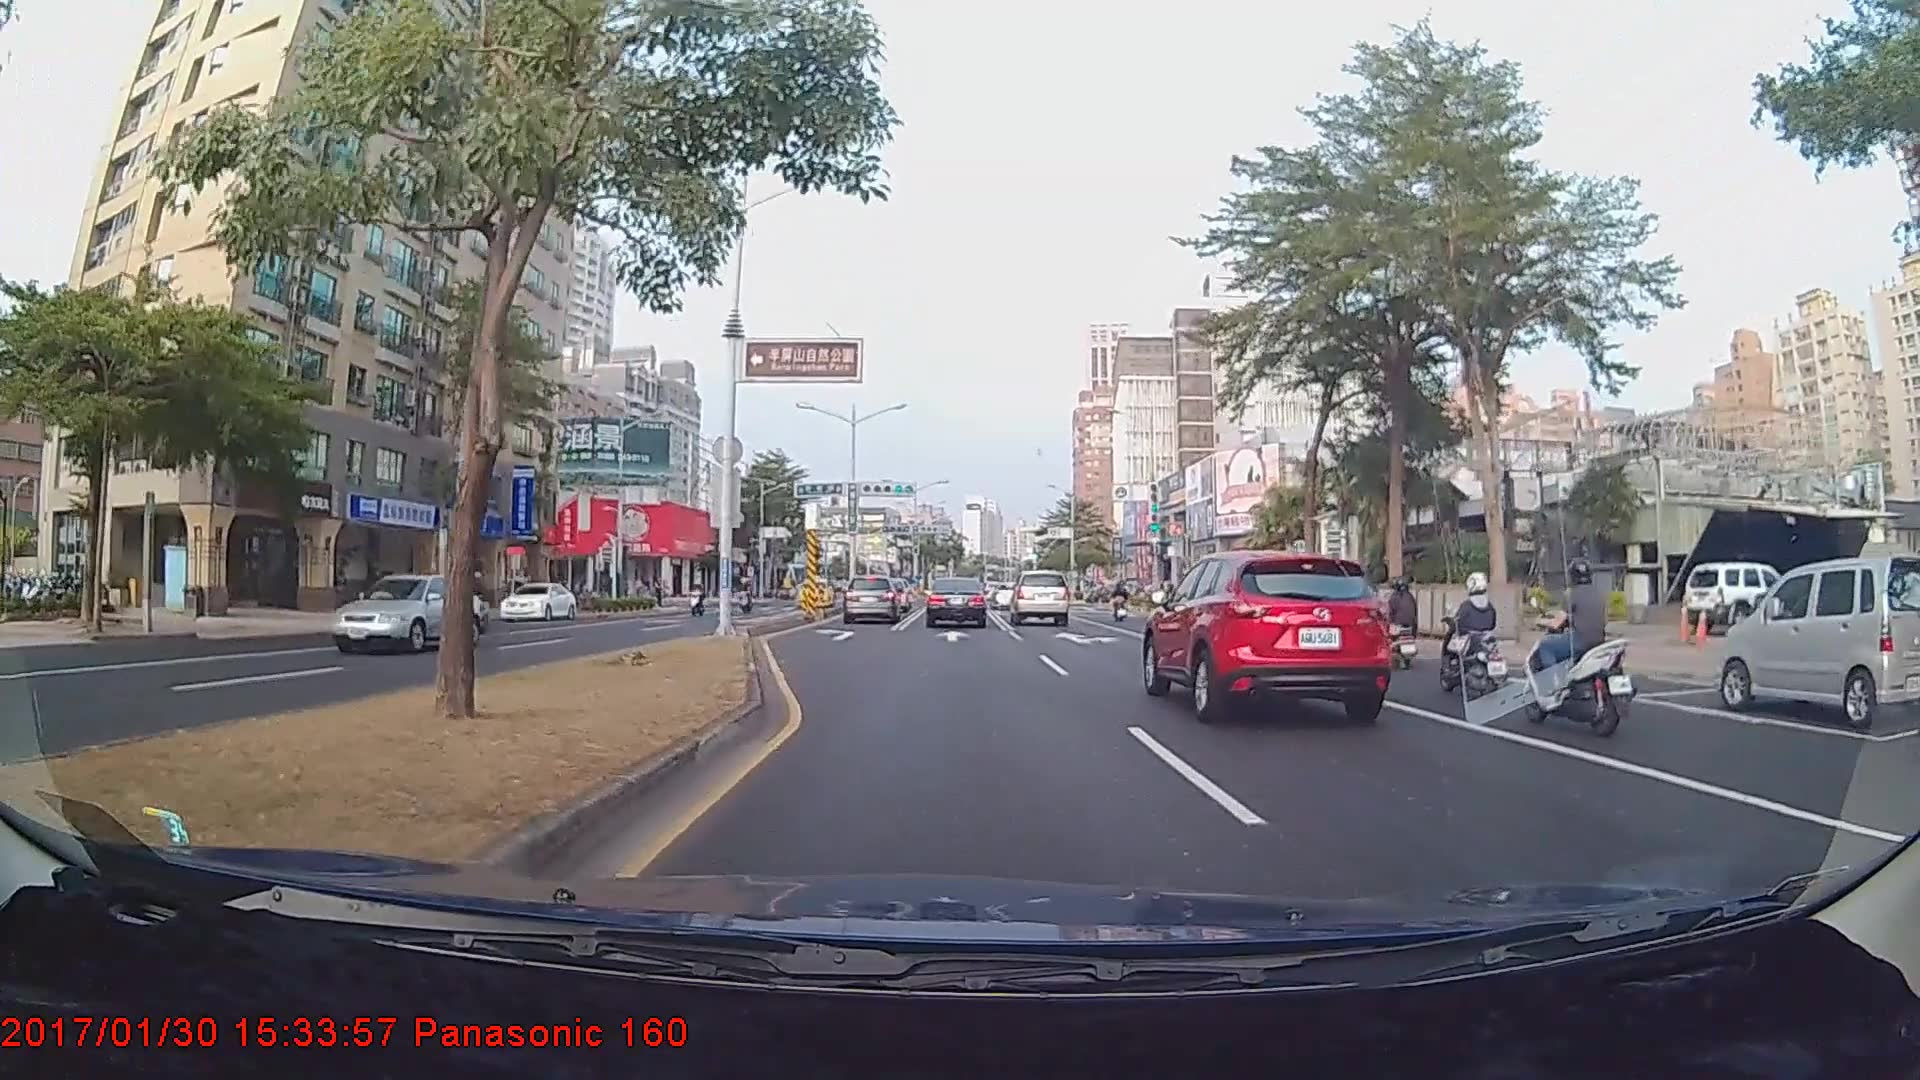rider: (1519, 553, 1638, 738), (1431, 572, 1528, 714), (1370, 576, 1422, 679), (1108, 582, 1135, 626)
vehicle: (1145, 543, 1392, 719), (1713, 557, 1915, 722), (328, 572, 480, 655), (1680, 559, 1778, 629), (841, 572, 907, 624), (1010, 569, 1070, 625), (926, 576, 987, 629), (500, 582, 577, 622)
